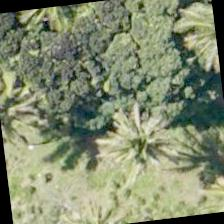Kelapa_Sawit: (91, 88, 190, 188)
